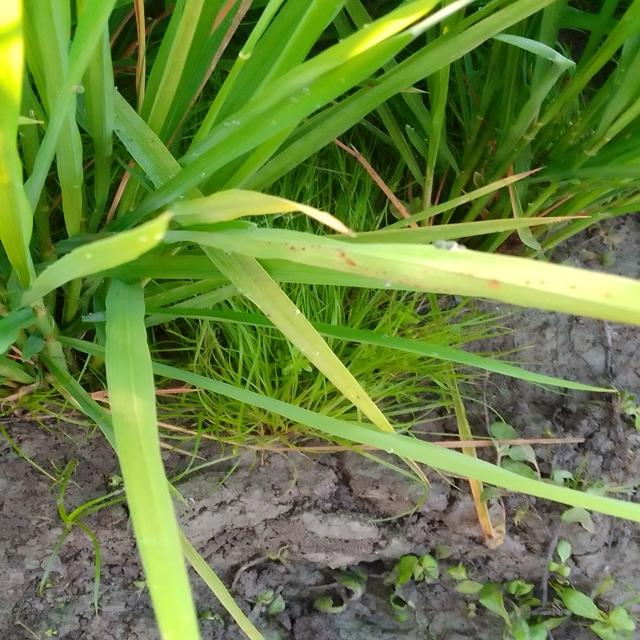insects: (466, 230, 640, 339), (261, 228, 398, 304)
